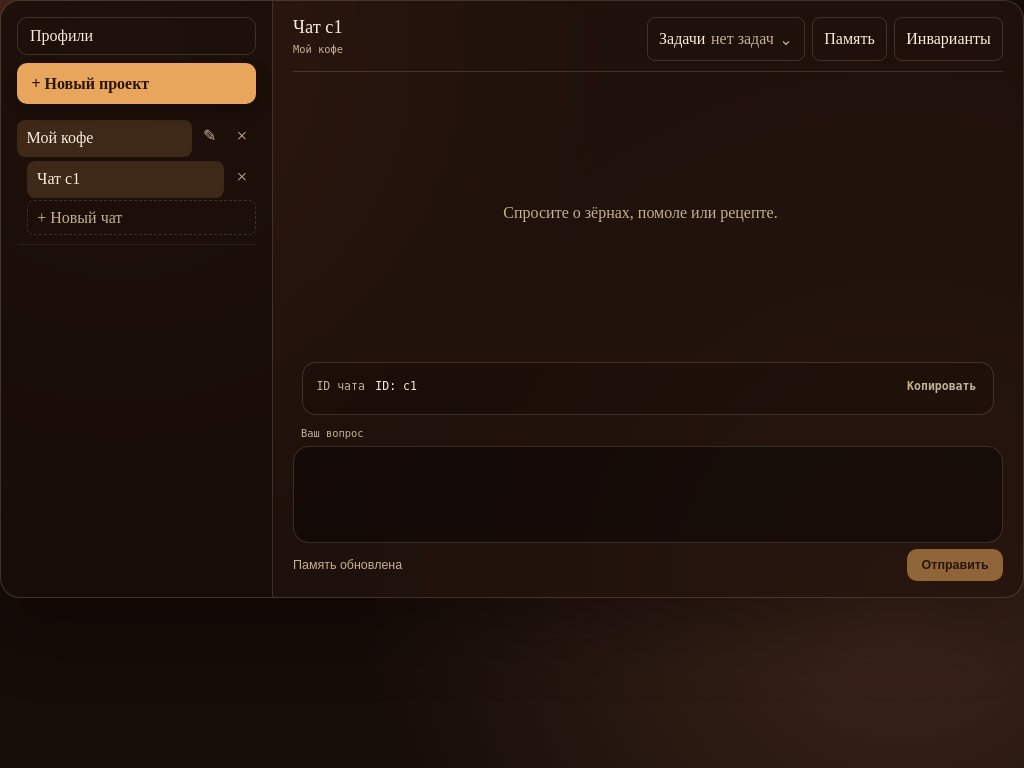
BaristaWorkspace › показывает ID выбранного чата и копирует чистый идентификатор
The width and height of the screenshot is (1024, 768).
expect the text "ID: c1" is shown: met, box [375,379,417,394]
Step 1. Click the button with aria-label "Копировать ID чата" → (942, 386), box [904,374,980,398]
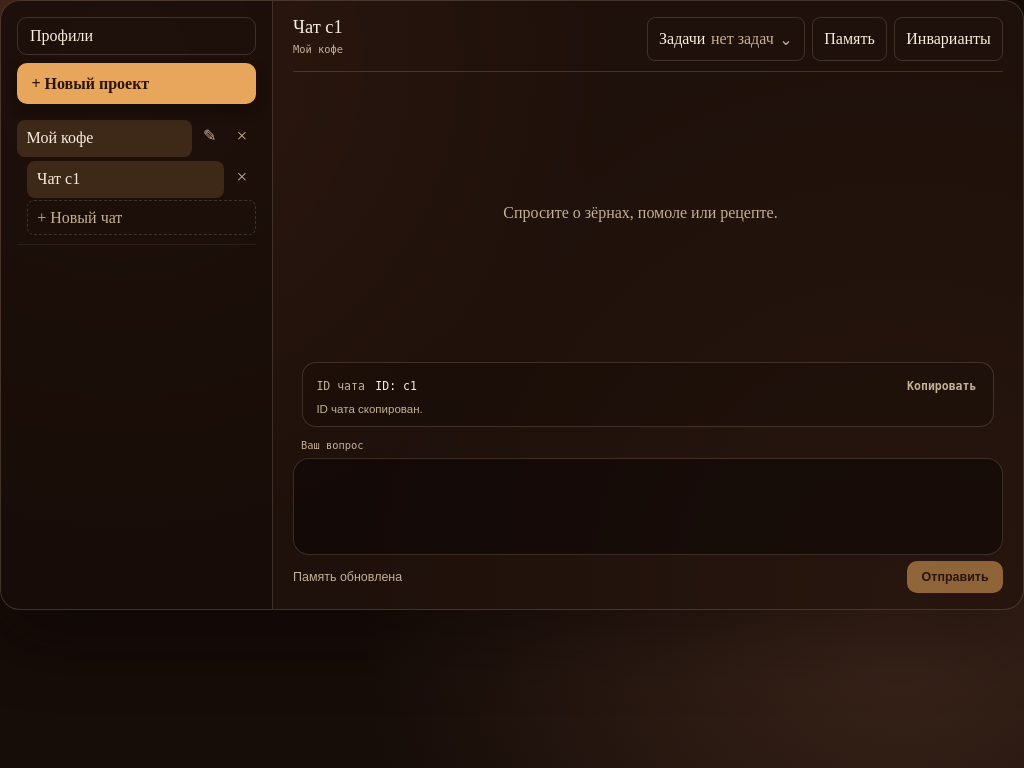
expect the message "ID чата скопирован." is shown: met, box [316,403,423,415]
